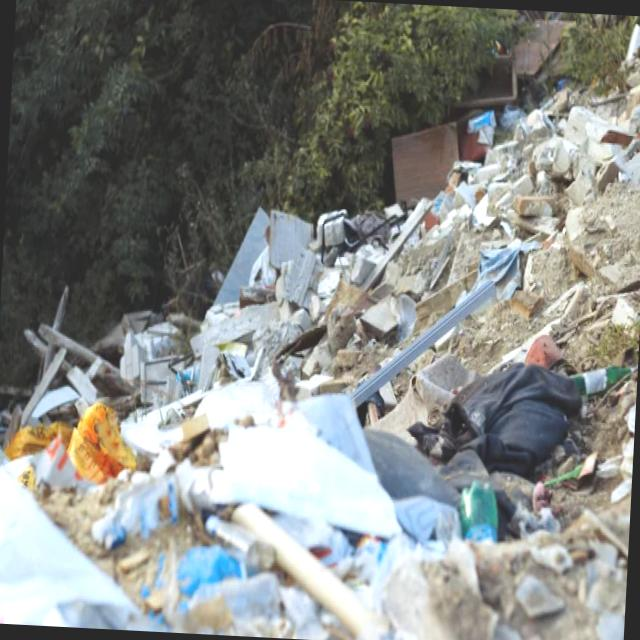garbage: (137, 227, 622, 625)
